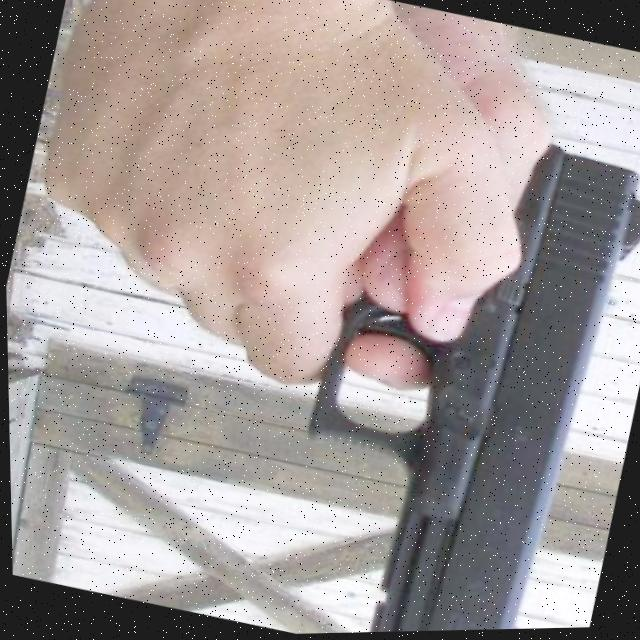pistol: (252, 106, 640, 636)
